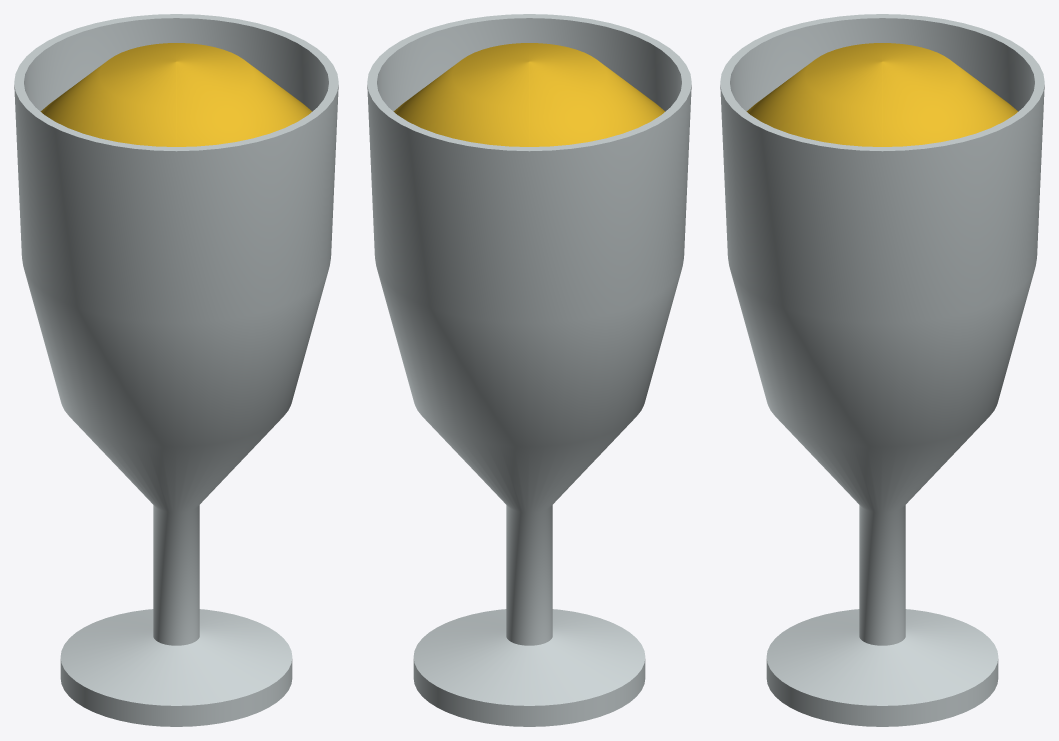
The model's file is cremoso-amarelo.glb.
3 renders of one model, left to right at view 1: azimuth 30°, elevation 25°; view 2: azimuth 150°, elevation 25°; view 3: azimuth 270°, elevation 25°, orthographic.
Parts seen in each view (by area): view 1: cremoso-amarelo; view 2: cremoso-amarelo; view 3: cremoso-amarelo.
Boxes of the visible parts, bbox=[...] form: cremoso-amarelo: bbox=[14, 14, 338, 726]; cremoso-amarelo: bbox=[367, 14, 691, 726]; cremoso-amarelo: bbox=[720, 14, 1044, 726].
Size of the model in its own units: 0.084 by 0.176 by 0.084.
